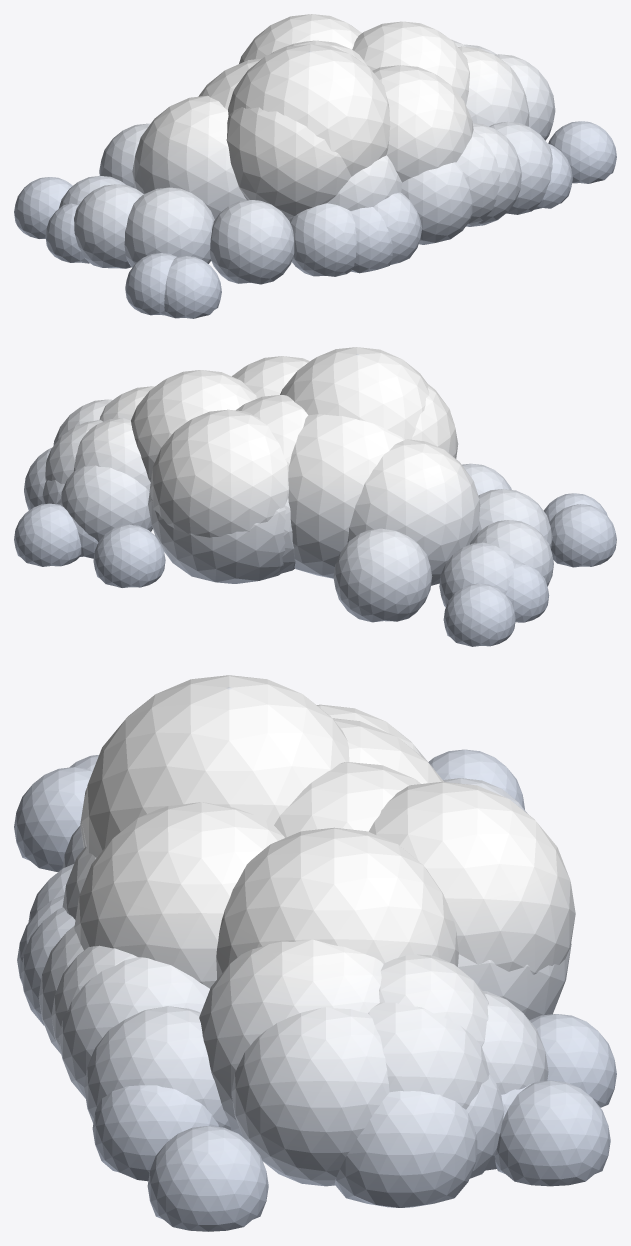
File: Cloud_3.obj
3 views of the same model, one above another, from view 1: azimuth 30°, elevation 25°; view 2: azimuth 150°, elevation 25°; view 3: azimuth 270°, elevation 25° (orthographic). The views are drawn at different scales.
Parts seen in each view (by area): view 1: Cloud; view 2: Cloud; view 3: Cloud.
Boxes of the visible parts, box(x1,y1,x2,y2) form: Cloud: box(14, 14, 616, 318); Cloud: box(14, 347, 616, 646); Cloud: box(14, 675, 616, 1231).
Bounding box in the file's own units: 58.52 × 19.32 × 34.82.
1 material, 1 textured.
